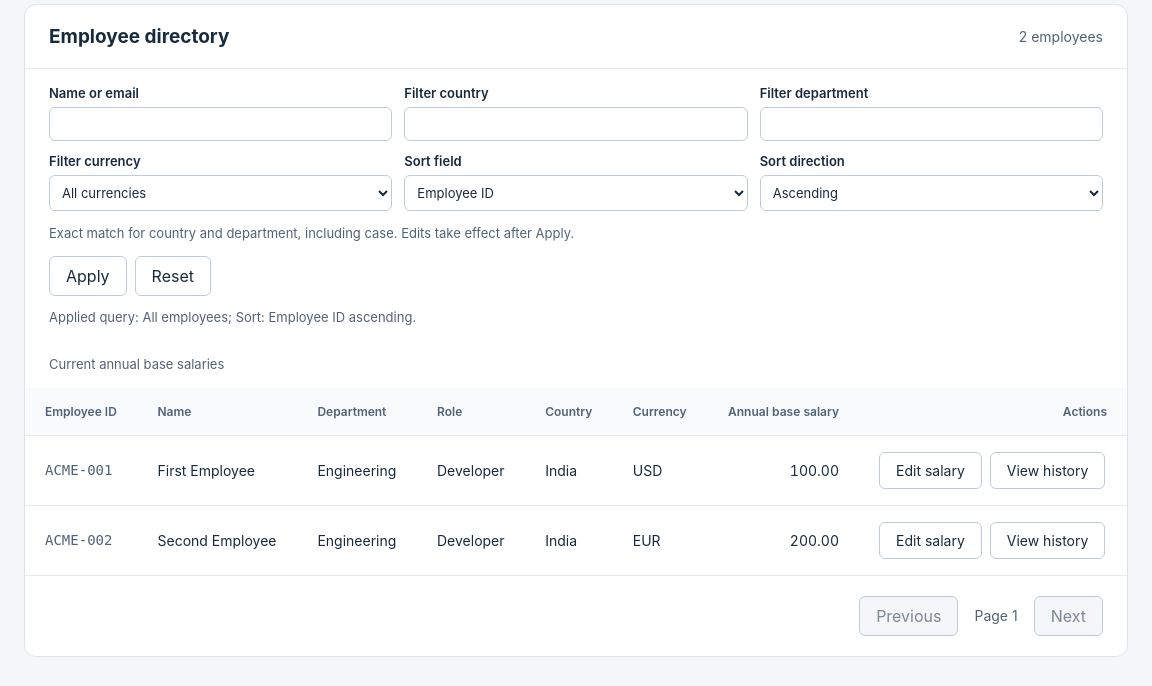
does not refresh history after conflict update failure
(page scrolled)
Step 1. Click the button with aria-label "View history for ACME-001" → (1048, 470), box [990,452,1105,489]
(page scrolled)
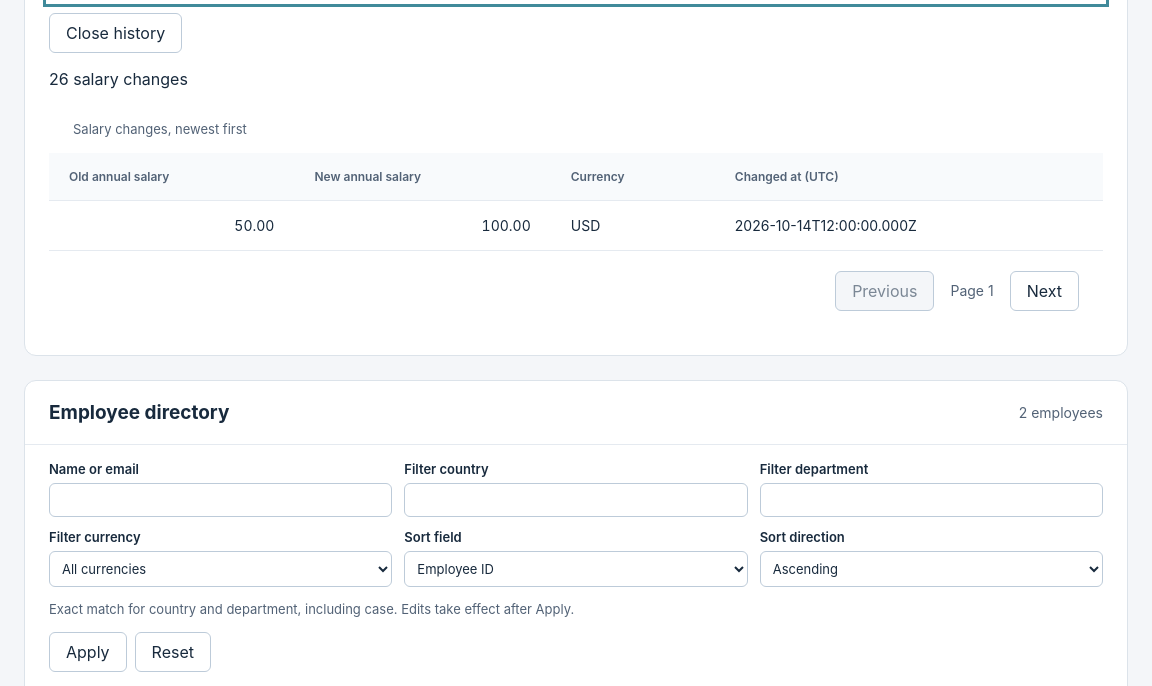
Step 2. Click the button "Next" → (1044, 291), box [1010,271,1079,311]
(page scrolled)
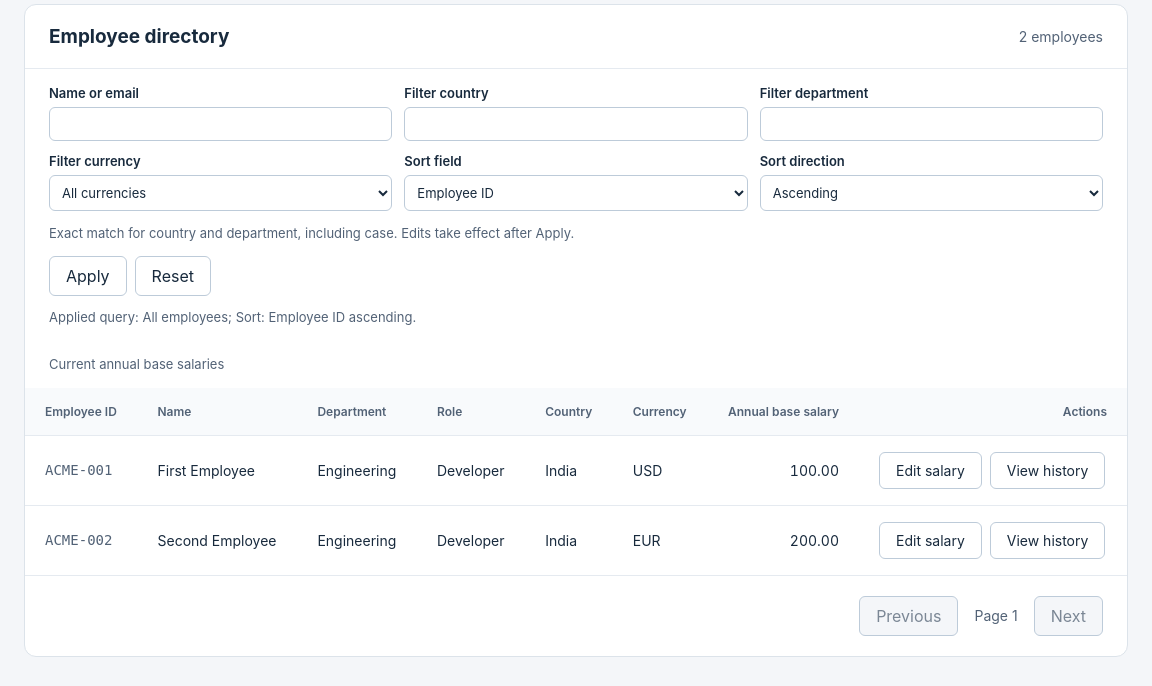
Step 3. Click the button with aria-label "Edit salary for ACME-001" → (930, 470), box [879,452,982,489]
(page scrolled)
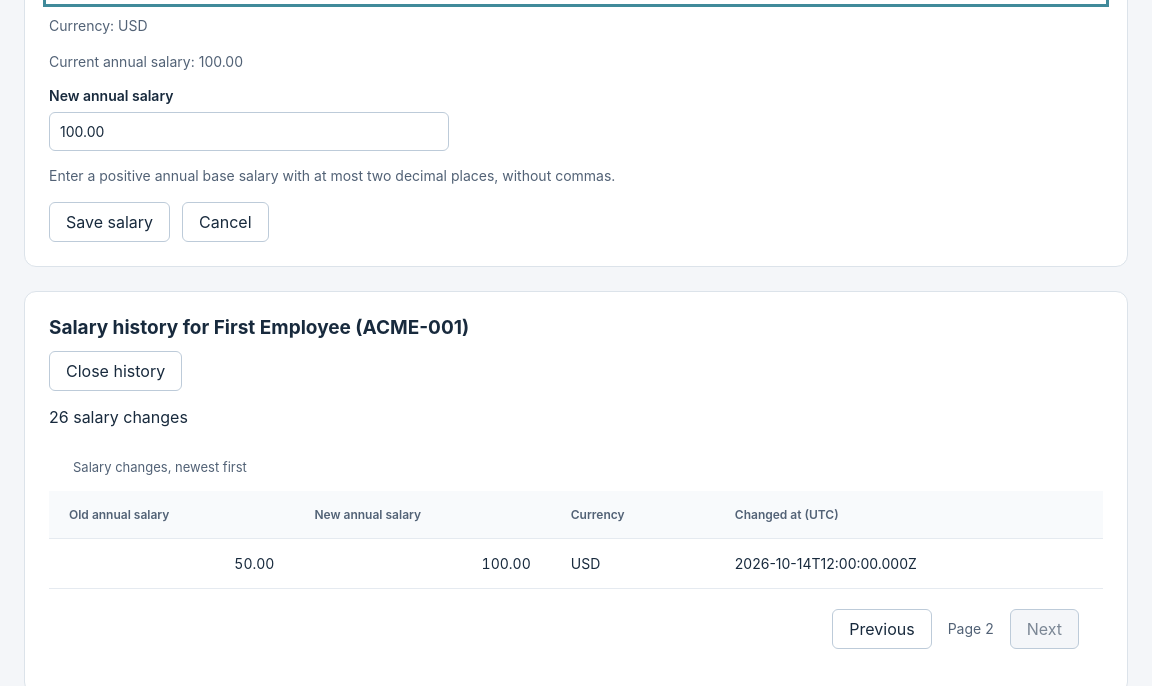
Step 4. Click the button "Save salary" → (110, 222), box [49,202,170,242]
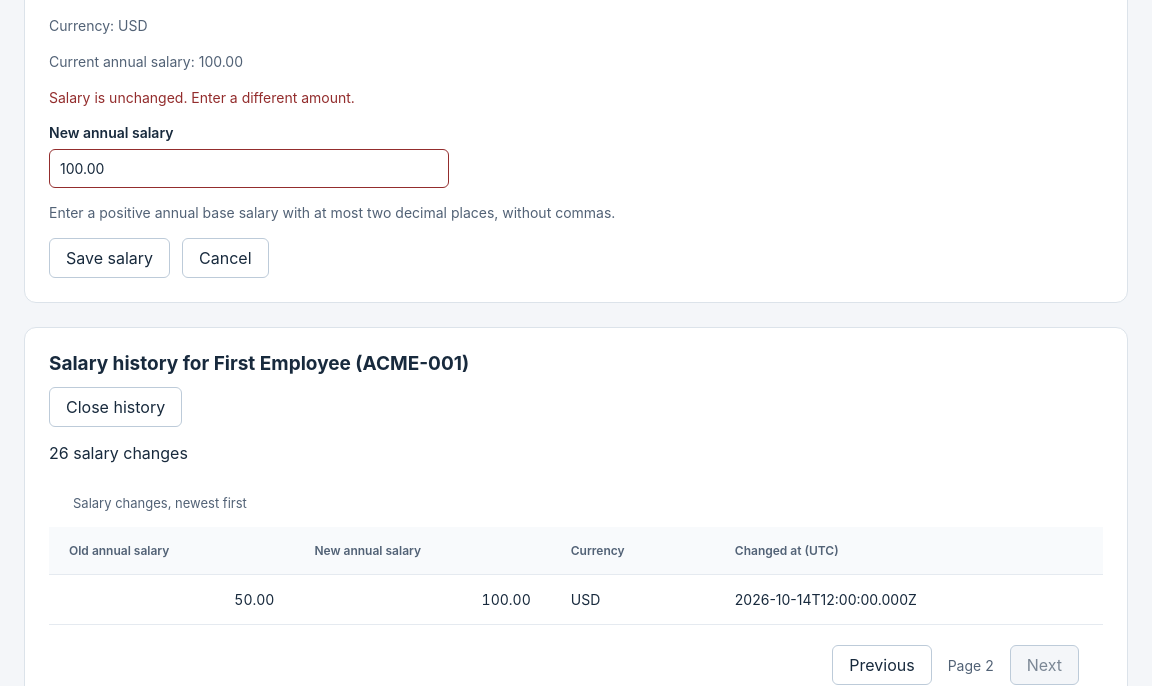
Expected: the message "Salary is unchanged. Enter a different amount." is shown, [49,89,355,106]
